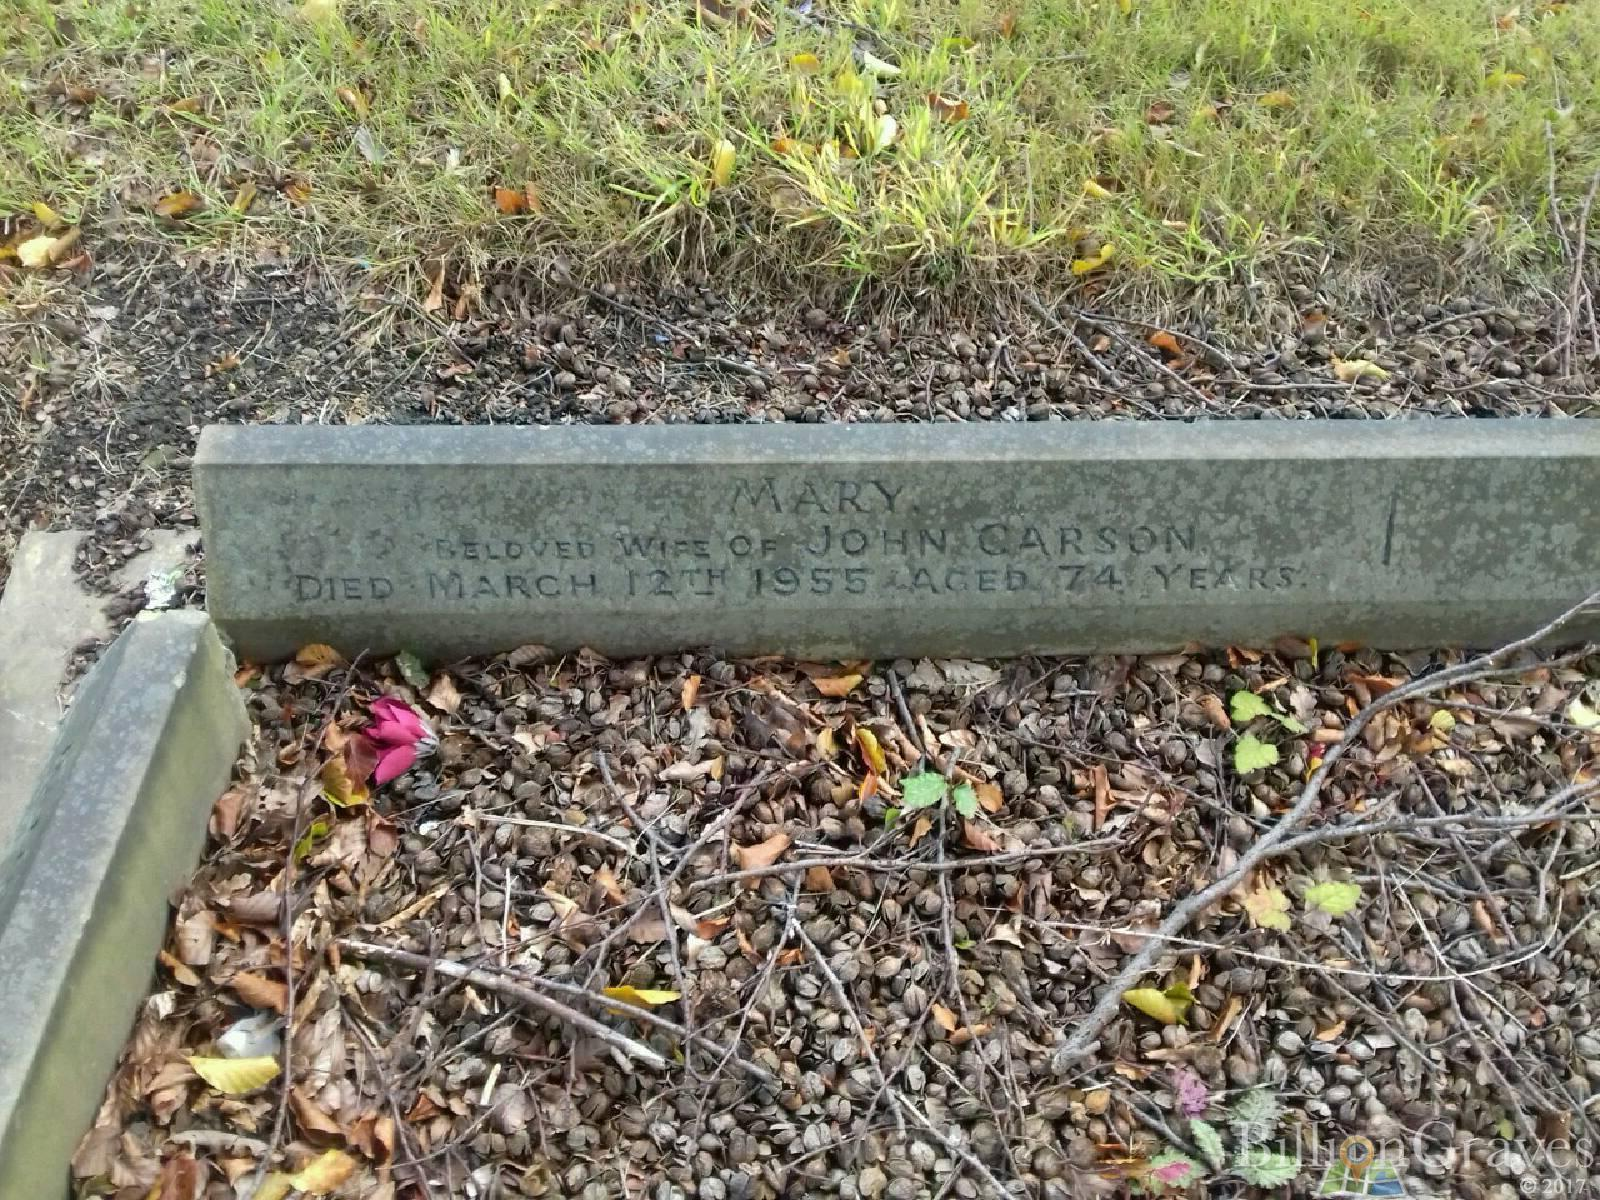upright: (189, 400, 1600, 639)
